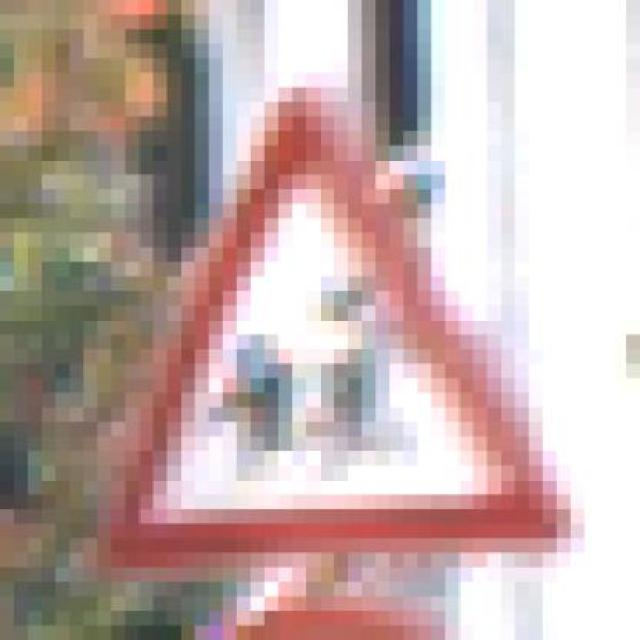Beware of children: (97, 58, 585, 582)
